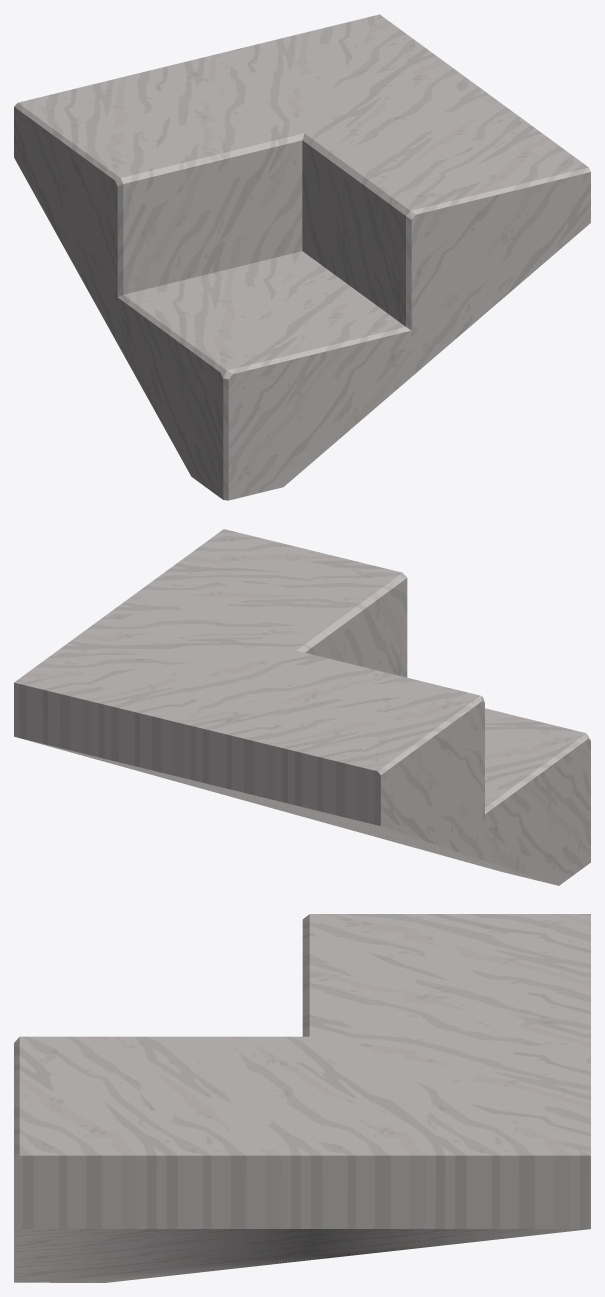
The model's file is SM_Bld_Step_02_Corner_02.fbx.
3 renders of one model, top to bottom at view 1: azimuth 30°, elevation 25°; view 2: azimuth 150°, elevation 25°; view 3: azimuth 270°, elevation 25°, orthographic. The views are drawn at different scales.
Visible parts, largest first — view 1: SM_Bld_Step_02_Corner_02; view 2: SM_Bld_Step_02_Corner_02; view 3: SM_Bld_Step_02_Corner_02.
Part boxes in pixels (x1=…): SM_Bld_Step_02_Corner_02: x1=14, y1=14, x2=590, y2=500; SM_Bld_Step_02_Corner_02: x1=14, y1=529, x2=590, y2=885; SM_Bld_Step_02_Corner_02: x1=14, y1=914, x2=590, y2=1282.
Size of the model in its own units: 250 by 159 by 250.
